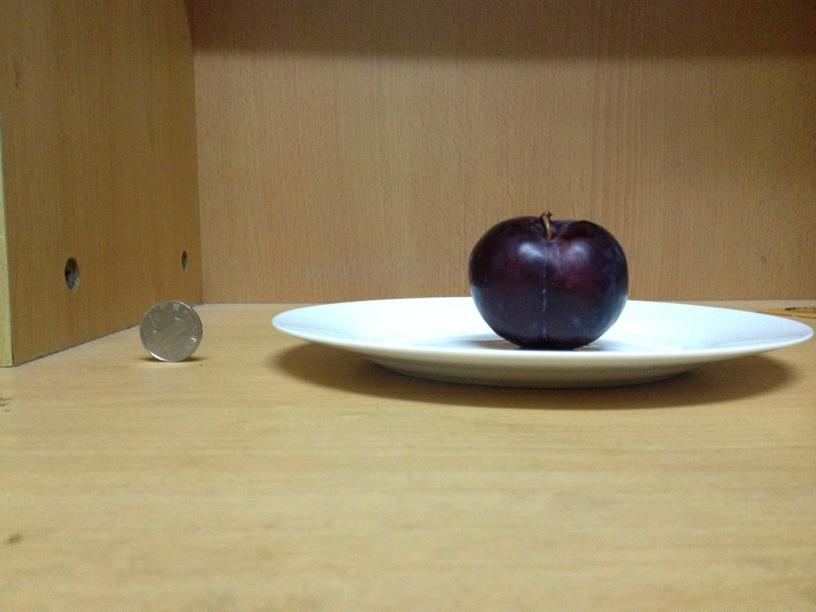coin: (131, 299, 203, 362)
plum: (460, 215, 628, 351)
